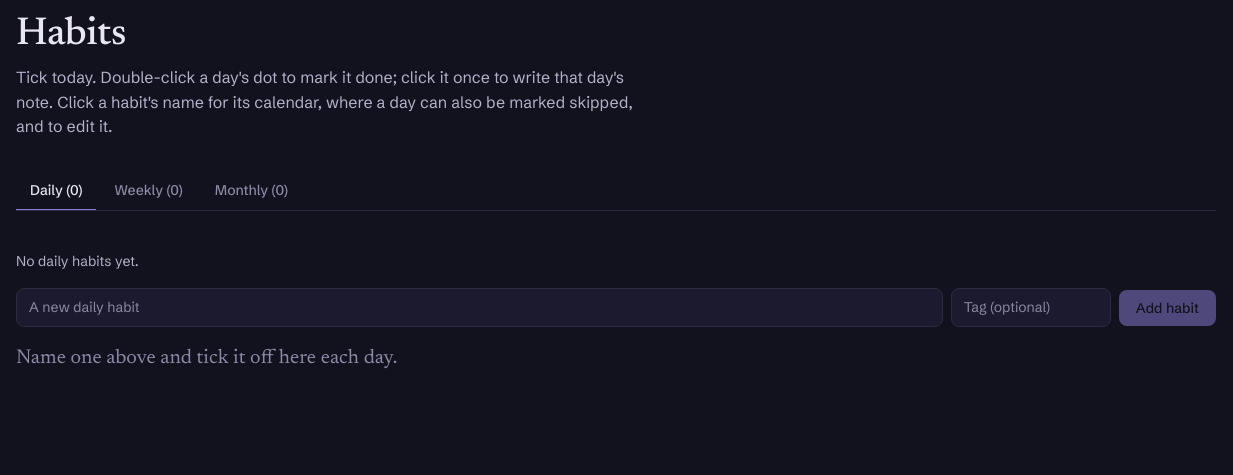
Test case: the habit lists › says there are none yet, then lists the one just named
The image size is (1233, 475).
Check: the text "No daily habits yet." is shown, box x1=16 y1=251 x2=139 y2=272
Type "Tactics puzzles" into the field named "Habit name" at (479, 308), box x1=16 y1=288 x2=943 y2=327
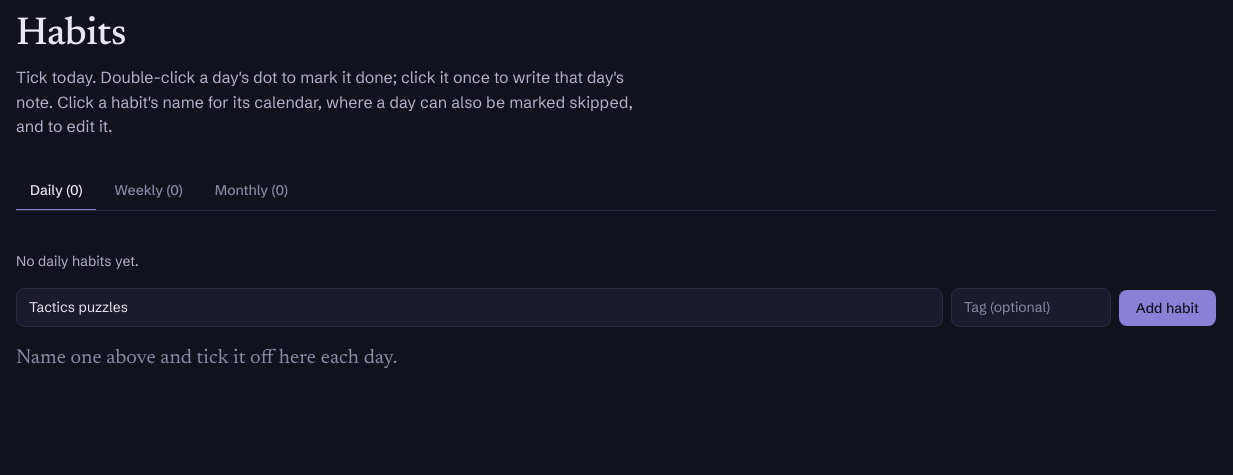
Type "chess" into the field labelled "Tag" at (1031, 308), box x1=951 y1=288 x2=1111 y2=327
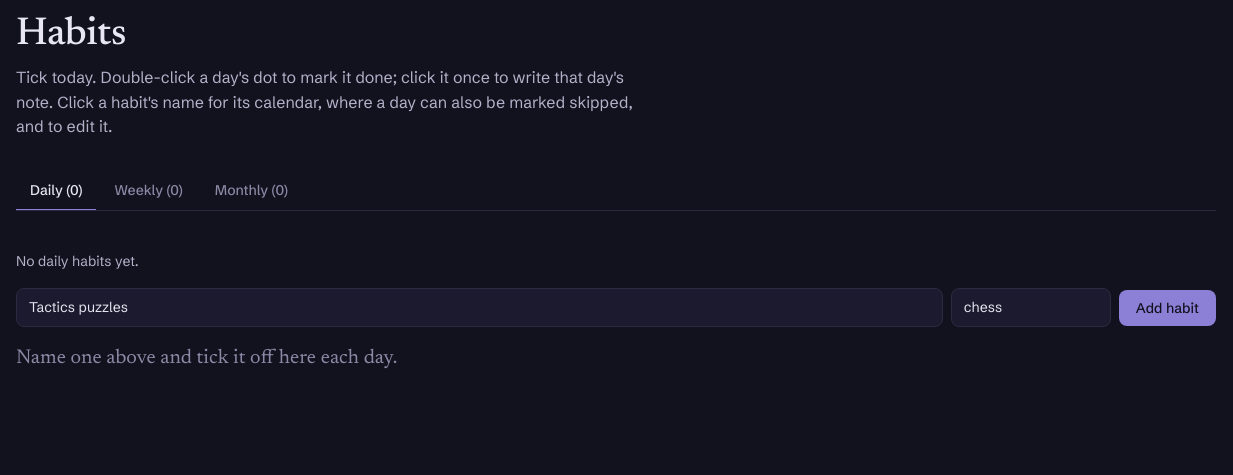
Click the button "Add habit" at (1167, 308), box x1=1119 y1=290 x2=1216 y2=326
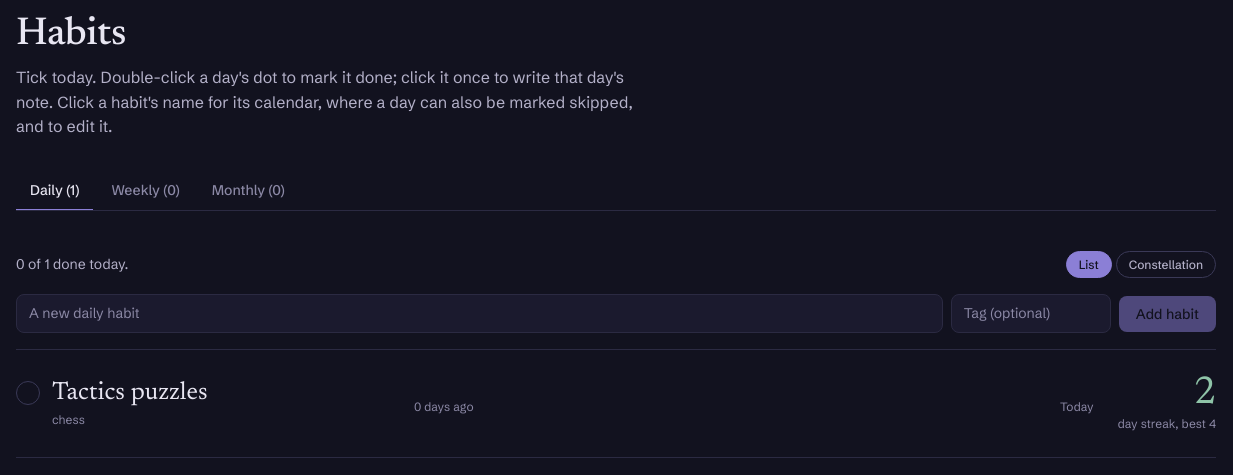
Check: the button "Tactics puzzles" is shown, box x1=52 y1=378 x2=208 y2=410
